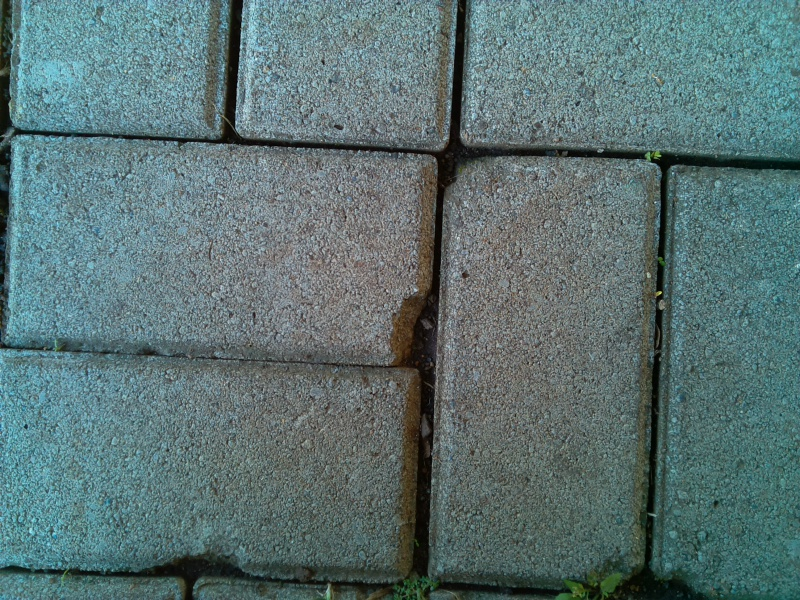Weed: (551, 563, 627, 600), (381, 569, 439, 600), (638, 144, 665, 170), (46, 333, 69, 361), (55, 564, 79, 587), (651, 249, 672, 275)
